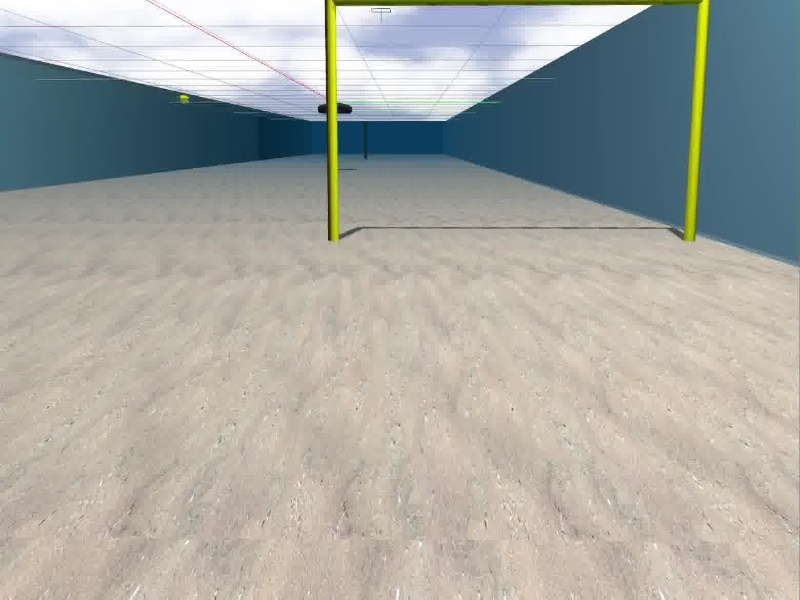gate: (323, 1, 709, 241)
